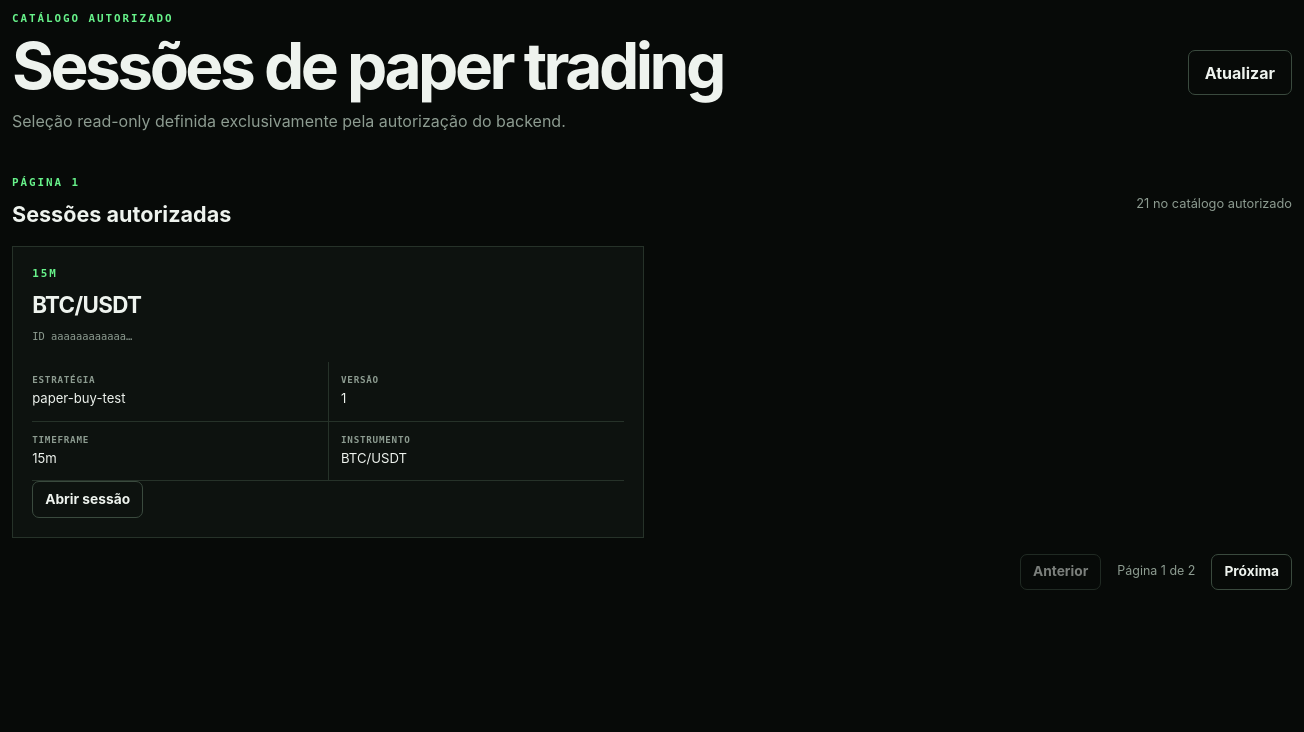
AppPaperSessionsPage › pagina no backend sem ordenar ou carregar tudo no browser
Expected: the heading "Sessões autorizadas" is shown, [12,198,231,230]
Click the button "Próxima" at (1252, 572), box [1211,554,1292,590]
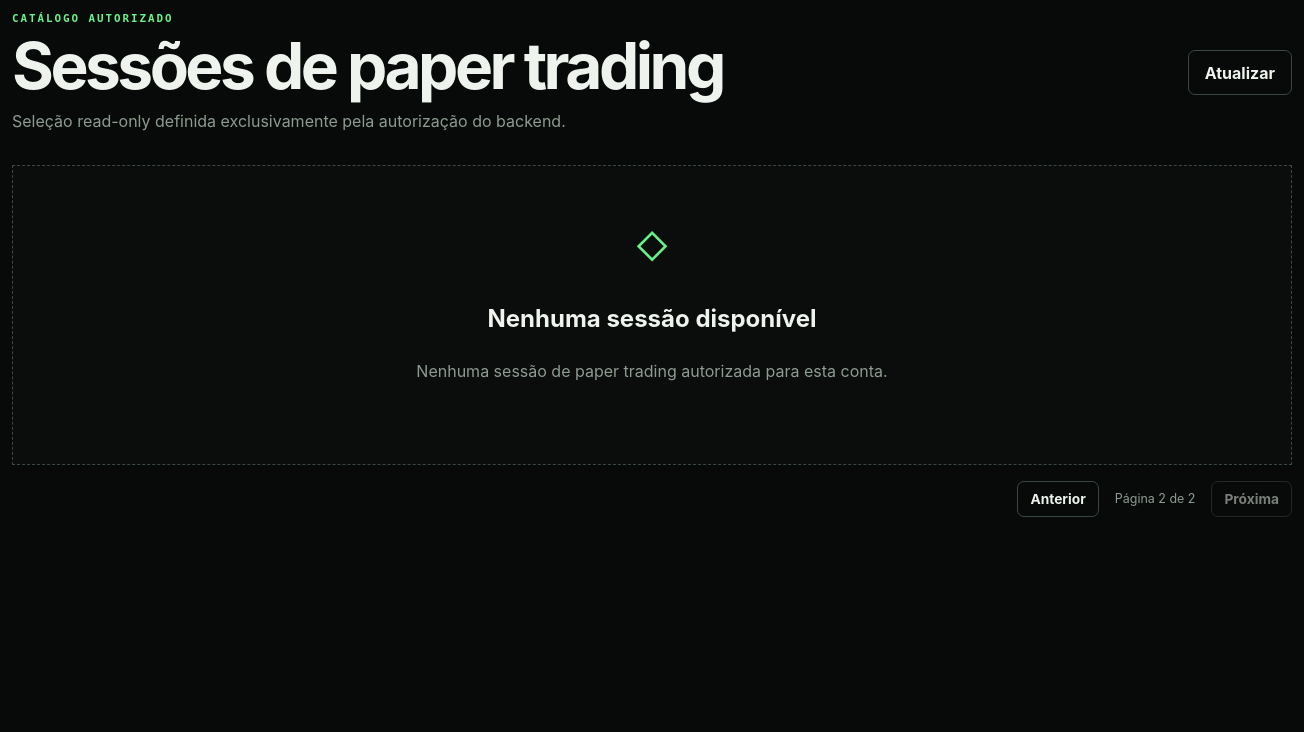
Expected: the text "Nenhuma sessão de paper trading autorizada para esta conta." is shown, [416,359,888,383]
